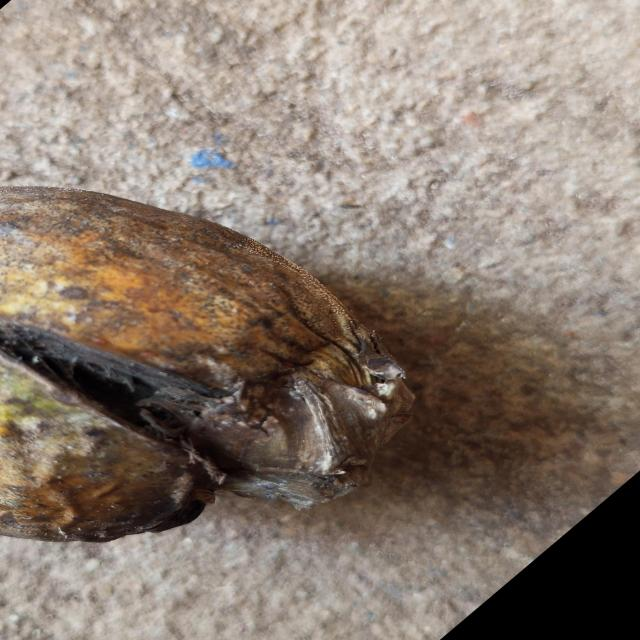damaged: (0, 187, 413, 542)
